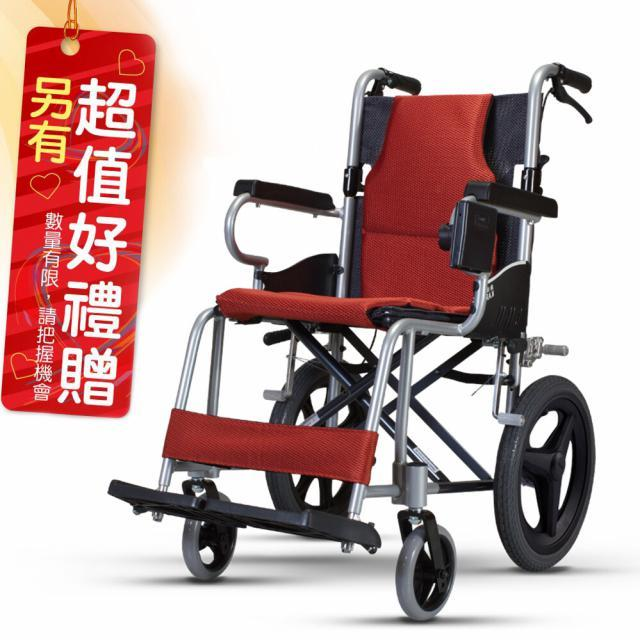wheelchair: (110, 39, 618, 629)
